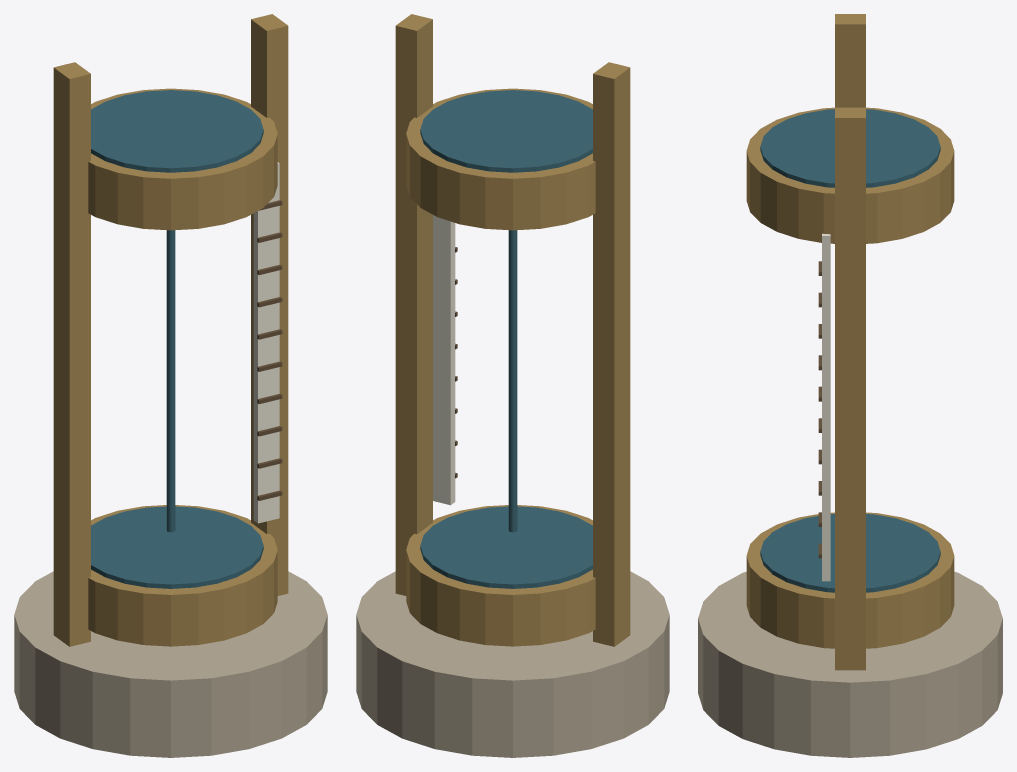
File: water_clock.glb
3 renders of one model, left to right at view 1: azimuth 30°, elevation 25°; view 2: azimuth 150°, elevation 25°; view 3: azimuth 270°, elevation 25°, orthographic. The views are drawn at different scales.
Parts seen in each view (by area): view 1: clock upright, clock stone foot, clock water surface, hour scale, hour mark; view 2: clock upright, clock stone foot, clock water surface, hour scale; view 3: clock upright, clock stone foot, clock water surface, hour scale, hour mark.
Part boxes in pixels (<box>): clock upright: <box>53,14,288,646</box>; clock stone foot: <box>14,571,327,757</box>; clock water surface: <box>91,90,263,588</box>; hour scale: <box>253,162,279,523</box>; hour mark: <box>257,200,282,500</box>; clock upright: <box>395,14,630,646</box>; clock stone foot: <box>356,571,669,757</box>; clock water surface: <box>420,90,592,588</box>; hour scale: <box>433,215,455,505</box>; clock upright: <box>746,14,954,670</box>; clock stone foot: <box>698,571,1002,757</box>; clock water surface: <box>760,109,940,592</box>; hour scale: <box>822,233,830,581</box>; hour mark: <box>818,261,821,558</box>.
Size of the model in its own units: 0.88 by 2 by 0.88.
